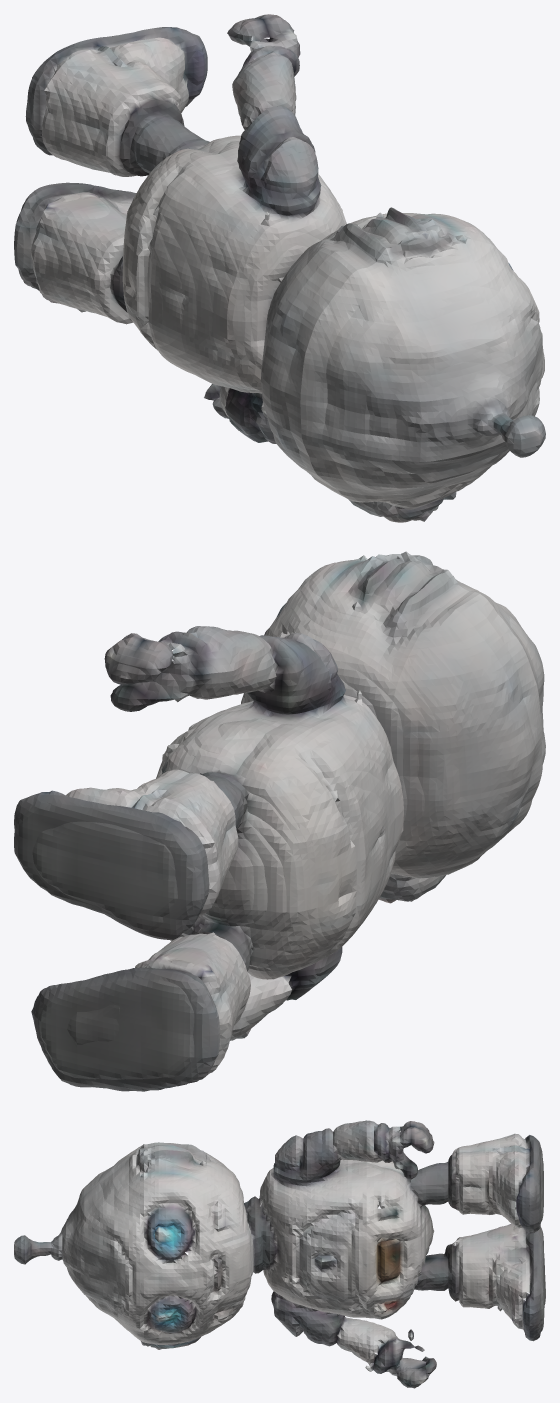
The model's file is model-demo.glb.
The picture shows the model from 3 angles, top to bottom: view 1: azimuth 30°, elevation 25°; view 2: azimuth 150°, elevation 25°; view 3: azimuth 270°, elevation 25°; orthographic projection. The views are drawn at different scales.
Parts seen in each view (by area): view 1: world; view 2: world; view 3: world.
Boxes of the visible parts, x1=… form: world: x1=14, y1=14, x2=545, y2=522; world: x1=14, y1=551, x2=545, y2=1091; world: x1=14, y1=1120, x2=545, y2=1388.
Size of the model in its own units: 0.3487 by 0.5319 by 0.9743.
